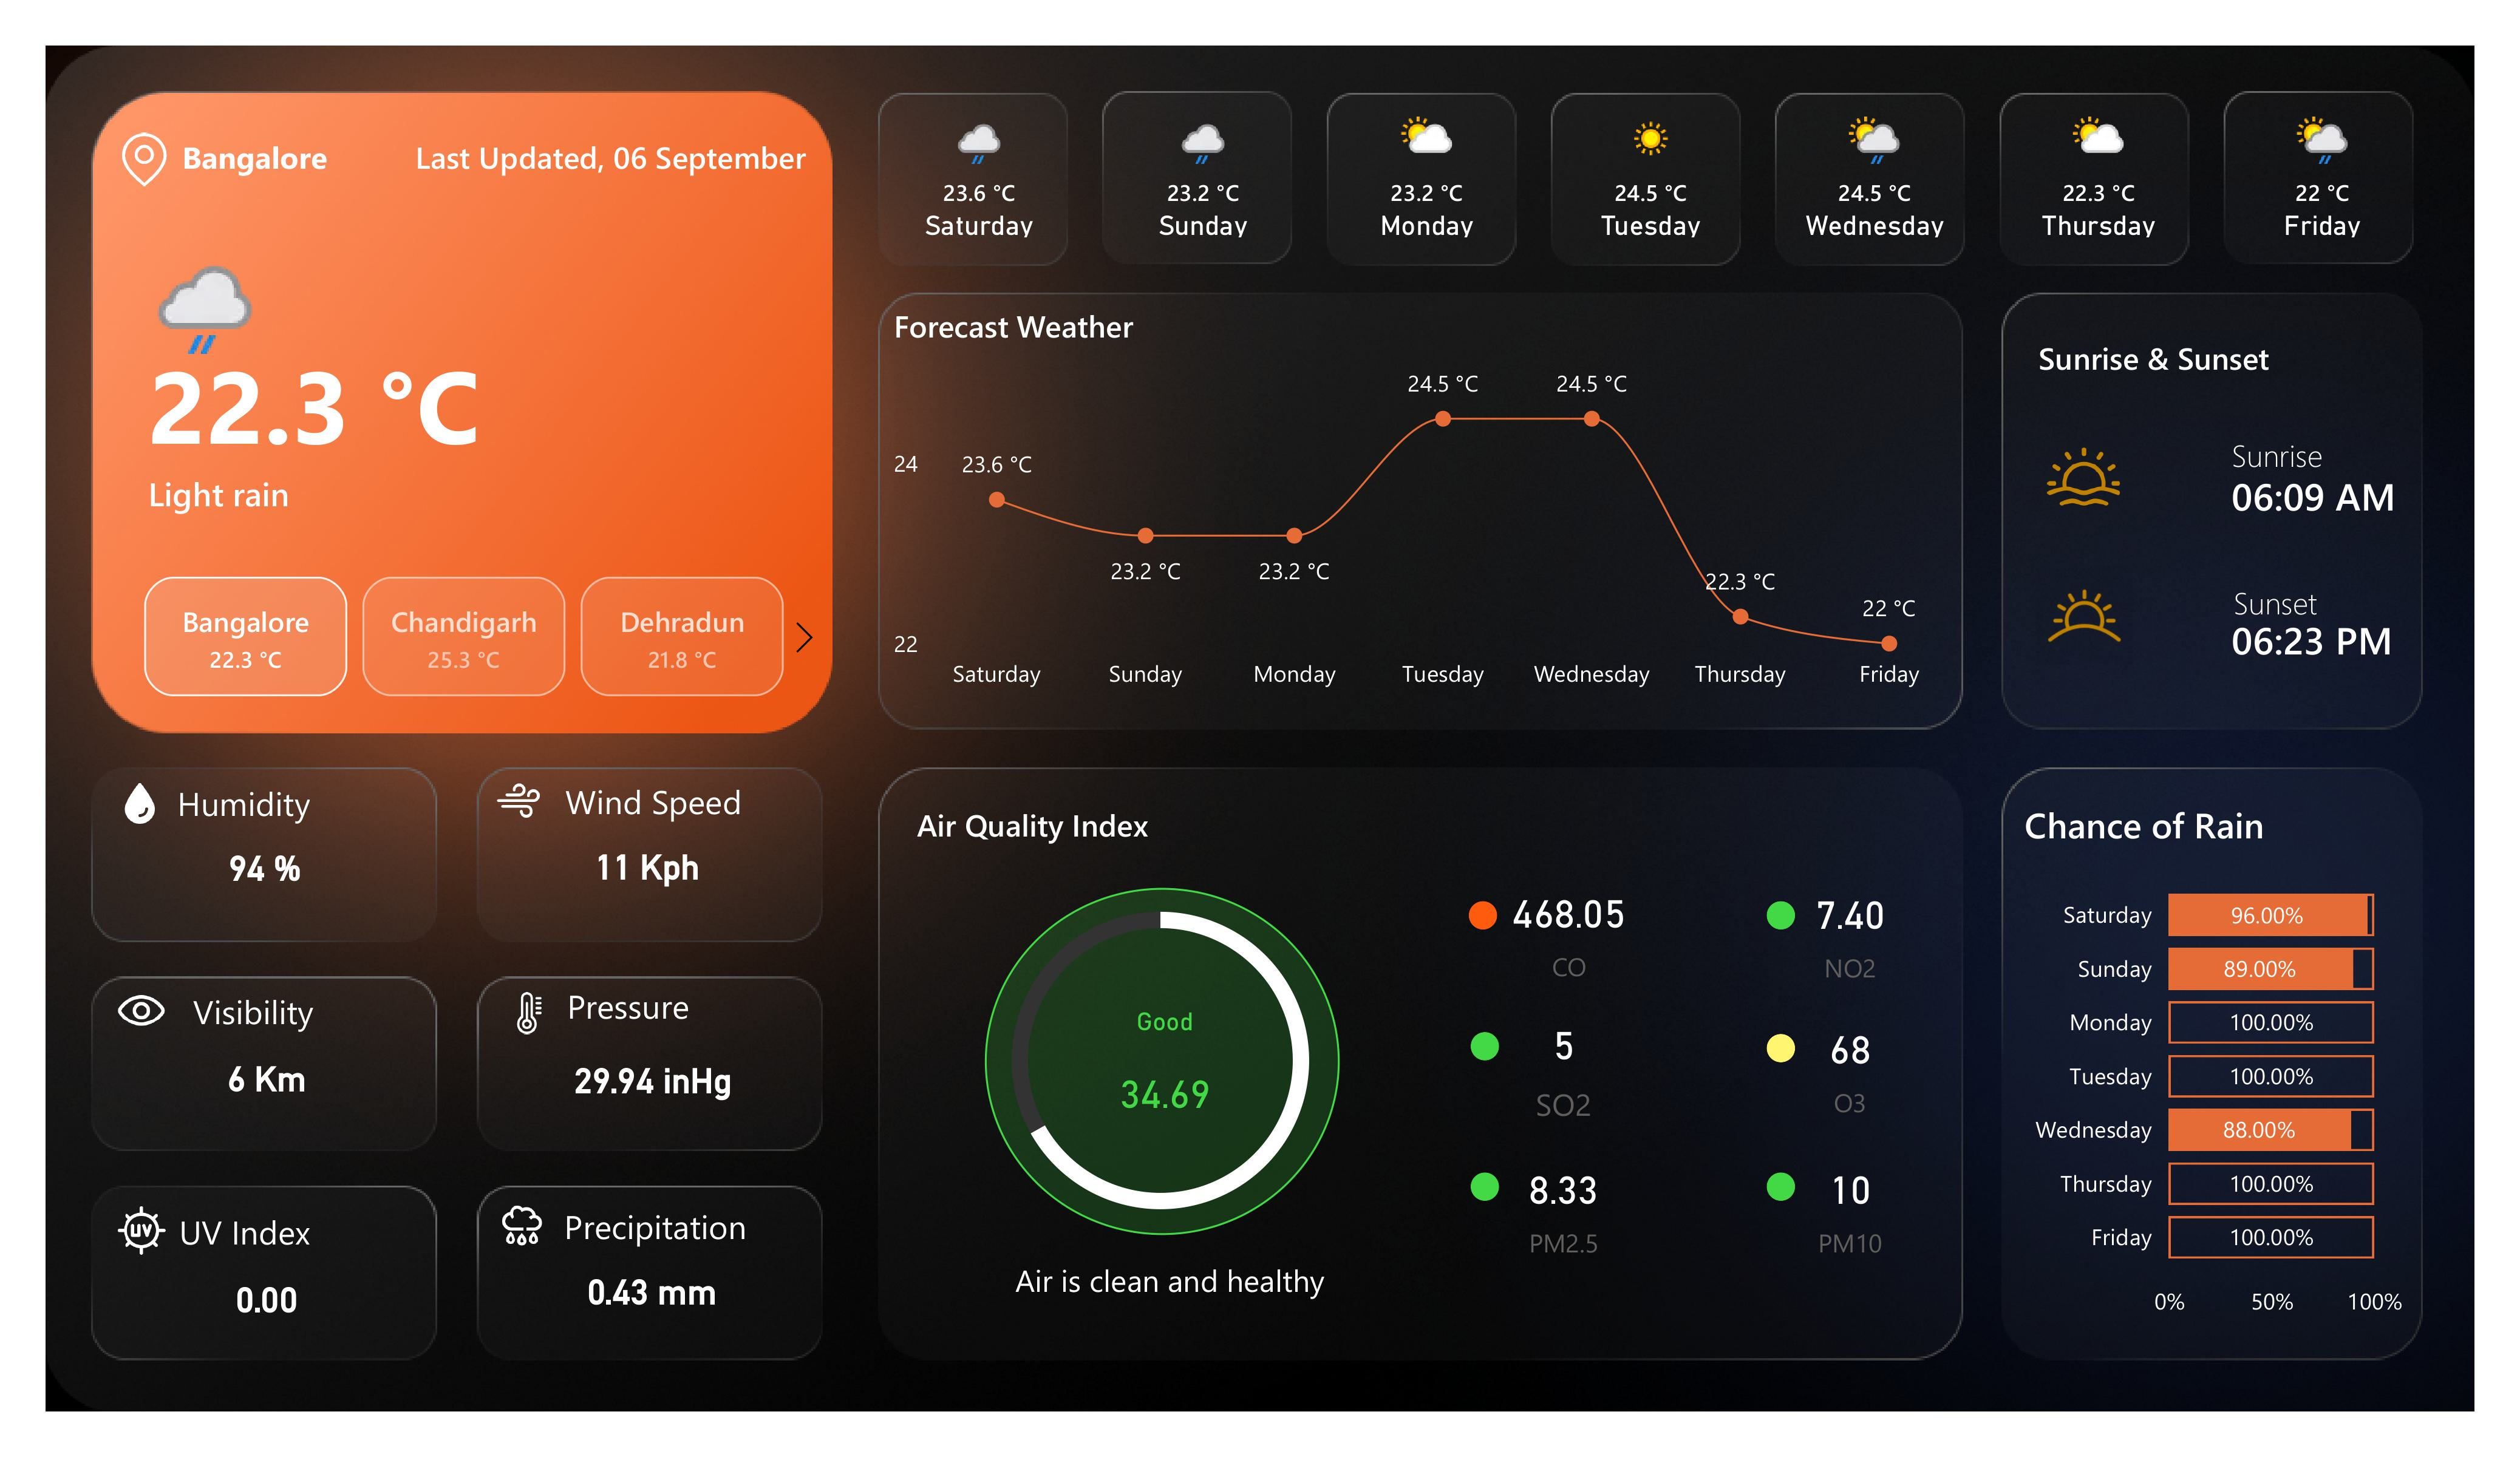

This screenshot's page, from the dashboard's own definition file:
{"tool":"powerbi","page":{"name":"Page 1","canvas":[1280,720],"ordinal":0},"visuals":[{"type":"advancedSlicerVisual","fields":{"Values":["Locations.location.name"]},"box":[26.7,275,388.3,73.3],"z":0},{"type":"image","box":[32.9,35.7,38.6,47.1],"z":1000},{"type":"image","box":[27.5,383.3,42.5,32.5],"z":2000},{"type":"image","box":[30.8,487.5,39.2,41.7],"z":3000},{"type":"image","box":[30,605.8,40,36.7],"z":4000},{"type":"image","box":[232.5,600,36.7,42.5],"z":5000},{"type":"image","box":[232.5,494.2,44.2,31.7],"z":6000},{"type":"image","box":[229.2,380.8,40,34.2],"z":7000},{"type":"shape","box":[70,487.5,79.2,40],"z":8000},{"type":"shape","box":[60,377.5,89.2,40],"z":9000},{"type":"shape","box":[260,375.7,120.7,42.1],"z":10000},{"type":"shape","box":[266.7,484.2,80,41.7],"z":11000},{"type":"shape","box":[260,600,122.5,42.5],"z":12000},{"type":"shape","box":[60.8,602.5,88.3,42.5],"z":13000},{"type":"shape","box":[53.6,147.9,179.3,78.6],"z":14000},{"type":"shape","box":[53.6,195.7,332.9,77.9],"z":15000},{"type":"shape","box":[195,35,211.4,46.4],"z":16000},{"type":"shape","box":[72.1,35,182.1,46.4],"z":17000},{"type":"cardVisual","fields":{"Data":["Min(Current.current.condition.icon)"]},"box":[7.5,81.2,128.8,106.2],"z":18000},{"type":"card","fields":{"Values":["_Measures.Humidity"]},"box":[82.7,415.5,65.5,37.3],"z":19000},{"type":"card","fields":{"Values":["_Measures.Visibiltiy"]},"box":[83.6,525.7,65.7,38.6],"z":20000},{"type":"card","fields":{"Values":["Sum(Current.current.uv)"]},"box":[88.6,642.9,55,37.1],"z":21000},{"type":"card","fields":{"Values":["Sum(Current.current.air_quality.co)"]},"box":[747.1,427.5,111.7,78.3],"z":22000},{"type":"card","fields":{"Values":["_Measures.Pressure"]},"box":[262.7,526.4,114.5,40],"z":23000},{"type":"card","fields":{"Values":["_Measures.Precipitation"]},"box":[273.6,641.8,90.9,30.9],"z":24000},{"type":"advancedSlicerVisual","fields":{"Values":["Forecast_Day.Day_Name"]},"box":[431.8,27.3,833.6,80],"z":25000},{"type":"lineChart","title":"Forecast Weather","fields":{"Y":["Sum(Forecast_Day.forecast.forecastday.day.avgtemp_c)"],"Category":["Forecast_Day.Day_Name"]},"box":[442.2,136.7,565.6,212.2],"z":26000},{"type":"shape","box":[1038.3,136.7,133.3,55],"z":27000},{"type":"shape","box":[1151.7,210,98.3,51.7],"z":28000},{"type":"shape","box":[1151.7,293.3,95,38.3],"z":29000},{"type":"shape","box":[1151.8,190,98.2,50.9],"z":30000},{"type":"shape","box":[1152.7,273.6,94.5,38.2],"z":31000},{"type":"image","box":[1050,202.9,47.6,48.6],"z":32000},{"type":"image","box":[1041,270.5,66.7,61],"z":33000},{"type":"hundredPercentStackedBarChart","title":"Chance of Rain","fields":{"Y":["Sum(Forecast_Day.forecast.forecastday.day.daily_chance_of_rain)","Current.Left_value_Rain"],"Category":["Forecast_Day.Day_Name"]},"box":[1038.3,398.3,208.3,281.7],"z":34000},{"type":"shape","box":[447.9,382.9,133.6,55],"z":35000},{"type":"card","fields":{"Values":["Sum(Current.current.air_quality.no2)"]},"box":[922.5,427.6,58,78],"z":36000},{"type":"card","fields":{"Values":["Sum(Current.current.air_quality.pm2_5)"]},"box":[744.5,572.6,112,78],"z":37000},{"type":"card","fields":{"Values":["Sum(Current.current.air_quality.o3)"]},"box":[895.5,498.6,112,78],"z":38000},{"type":"card","fields":{"Values":["Sum(Current.current.air_quality.pm10)"]},"box":[895.5,572.6,112,78],"z":39000},{"type":"card","fields":{"Values":["Sum(Current.current.air_quality.so2)"]},"box":[744.5,498.6,112,78],"z":40000},{"type":"shape","box":[750.3,450.9,15,15],"z":41000},{"type":"shape","box":[907.3,593.7,15,15],"z":42000},{"type":"shape","box":[750.6,593.7,15,15],"z":43000},{"type":"shape","box":[750.6,520.4,15,15],"z":44000},{"type":"shape","box":[907.3,521.2,15,15],"z":45000},{"type":"shape","box":[907.3,451.2,15,15],"z":46000},{"type":"shape","box":[494.8,443.9,187.1,182.9],"z":47000},{"type":"donutChart","fields":{"Y":["Sum(Current.CO)","_Measures.Left_value_03"]},"box":[430,431.8,315.5,206.4],"z":48000},{"type":"card","fields":{"Values":["_Measures.Final_AQI"]},"box":[533.6,507.2,112,78],"z":49000},{"type":"shape","box":[458.6,611.4,267.1,77.1],"z":50000},{"type":"card","fields":{"Values":["_Measures.Wind_Speed"]},"box":[279.1,415.5,76.4,36.4],"z":51000}]}

Visuals, with their boxes in screenshot pixels (x1, y1, x2, y2):
advancedSlicerVisual - Locations.location.name: bbox=[96, 567, 833, 706]
image: bbox=[108, 114, 181, 203]
image: bbox=[98, 773, 179, 834]
image: bbox=[104, 970, 179, 1050]
image: bbox=[103, 1195, 179, 1265]
image: bbox=[487, 1184, 556, 1265]
image: bbox=[487, 983, 571, 1043]
image: bbox=[480, 768, 556, 833]
shape: bbox=[179, 970, 329, 1046]
shape: bbox=[159, 762, 329, 838]
shape: bbox=[539, 758, 768, 838]
shape: bbox=[551, 964, 703, 1043]
shape: bbox=[539, 1184, 771, 1265]
shape: bbox=[161, 1189, 329, 1269]
shape: bbox=[147, 326, 488, 475]
shape: bbox=[147, 417, 779, 565]
shape: bbox=[415, 112, 817, 200]
shape: bbox=[182, 112, 528, 200]
cardVisual - Min(Current.current.condition.icon): bbox=[60, 200, 304, 401]
card - _Measures.Humidity: bbox=[202, 834, 327, 905]
card - _Measures.Visibiltiy: bbox=[204, 1043, 329, 1116]
card - Sum(Current.current.uv): bbox=[214, 1265, 318, 1336]
card - Sum(Current.current.air_quality.co): bbox=[1463, 857, 1675, 1005]
card - _Measures.Pressure: bbox=[544, 1044, 761, 1120]
card - _Measures.Precipitation: bbox=[565, 1263, 737, 1322]
advancedSlicerVisual - Forecast_Day.Day_Name: bbox=[865, 97, 2447, 249]
"Forecast Weather" lineChart: bbox=[885, 305, 1958, 707]
shape: bbox=[2016, 305, 2269, 409]
shape: bbox=[2231, 444, 2417, 542]
shape: bbox=[2231, 602, 2411, 674]
shape: bbox=[2231, 406, 2417, 503]
shape: bbox=[2233, 565, 2412, 637]
image: bbox=[2038, 430, 2128, 523]
image: bbox=[2021, 559, 2148, 674]
"Chance of Rain" hundredPercentStackedBarChart: bbox=[2016, 801, 2411, 1336]
shape: bbox=[896, 772, 1149, 876]
card - Sum(Current.current.air_quality.no2): bbox=[1796, 857, 1906, 1005]
card - Sum(Current.current.air_quality.pm2_5): bbox=[1459, 1132, 1671, 1280]
card - Sum(Current.current.air_quality.o3): bbox=[1745, 991, 1957, 1139]
card - Sum(Current.current.air_quality.pm10): bbox=[1745, 1132, 1957, 1280]
card - Sum(Current.current.air_quality.so2): bbox=[1459, 991, 1671, 1139]
shape: bbox=[1469, 901, 1498, 929]
shape: bbox=[1767, 1172, 1796, 1200]
shape: bbox=[1470, 1172, 1499, 1200]
shape: bbox=[1470, 1033, 1499, 1061]
shape: bbox=[1767, 1034, 1796, 1063]
shape: bbox=[1767, 902, 1796, 930]
shape: bbox=[984, 888, 1340, 1235]
donutChart - Sum(Current.CO) x _Measures.Left_value_03: bbox=[862, 864, 1460, 1256]
card - _Measures.Final_AQI: bbox=[1058, 1008, 1270, 1156]
shape: bbox=[916, 1206, 1423, 1352]
card - _Measures.Wind_Speed: bbox=[575, 834, 720, 903]
